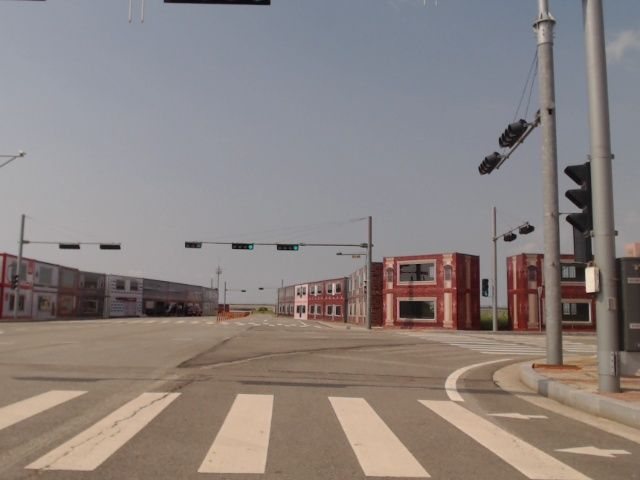straight_green_4: (277, 244, 299, 252), (230, 243, 253, 249)
